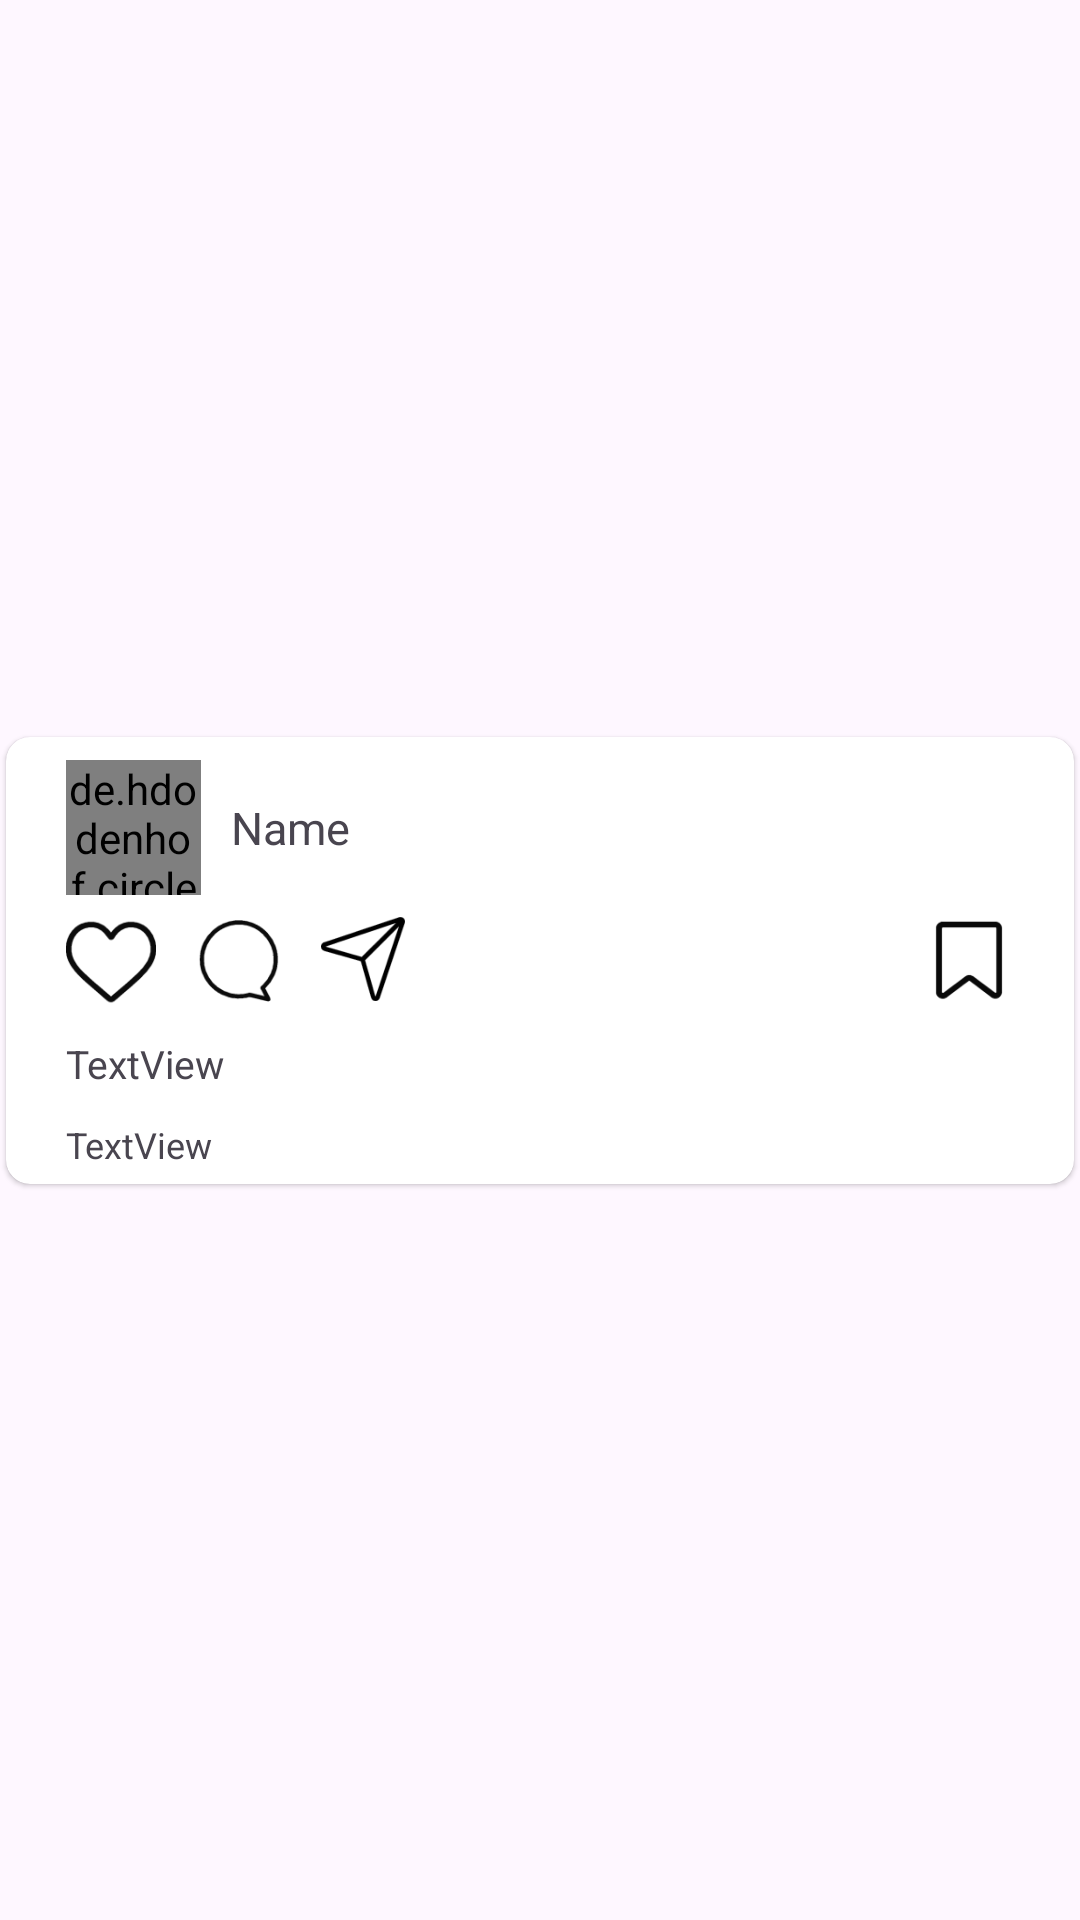

Icons on this 1080×1920 Android screen, each with its box as (x1, y1, x2, y2):
comment: (199, 920, 278, 1002)
heart: (66, 921, 156, 1003)
save post: (936, 921, 1002, 999)
share: (321, 917, 405, 1001)
